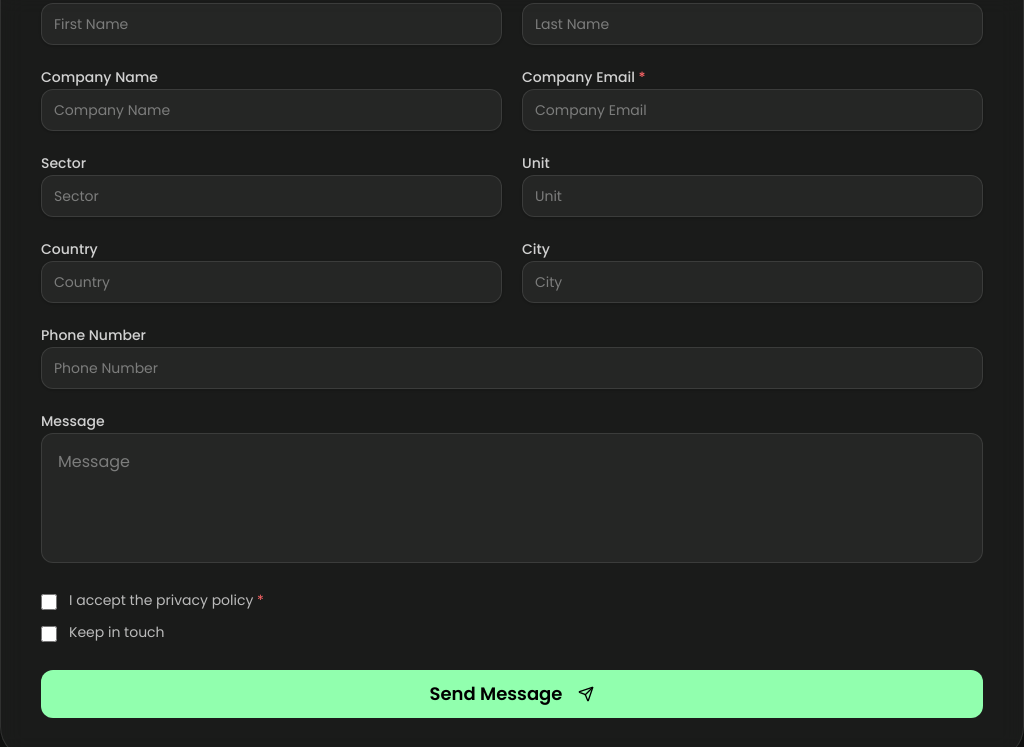
Test: ContactForm › shows validation errors for required fields
(page scrolled)
Click the button "Send Message" at (512, 694), box [41,670,983,718]
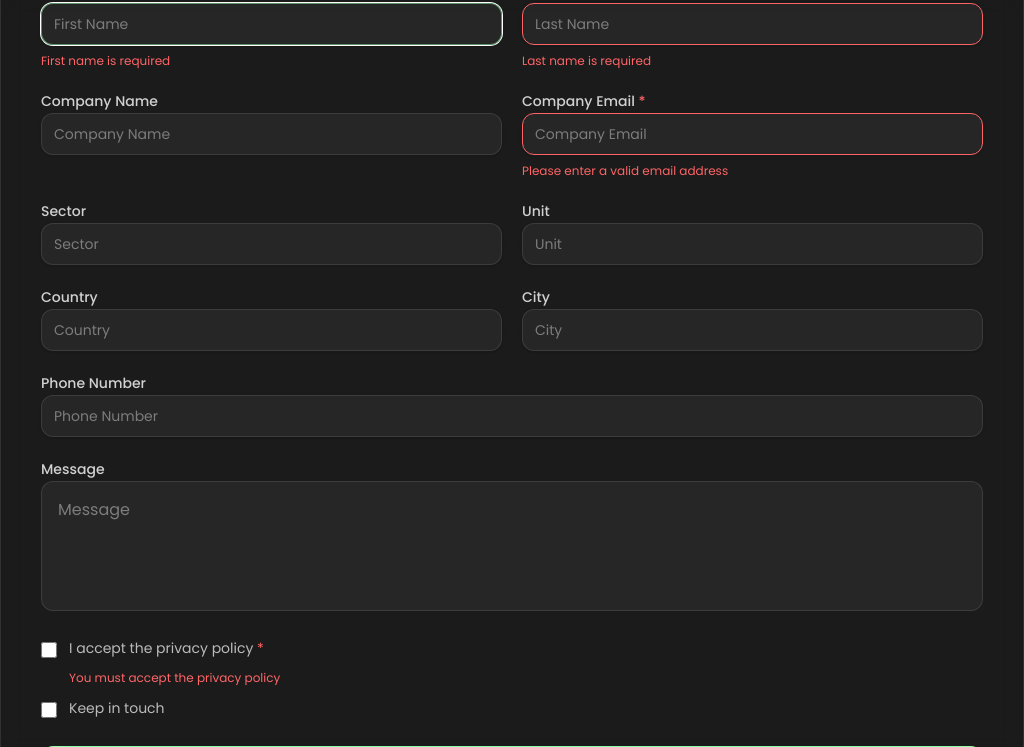
Check: the text "First name is required" is shown, box [41,52,170,69]
Check: the text "Last name is required" is shown, box [522,52,651,69]
Check: the text "You must accept the privacy policy" is shown, box [69,669,280,686]
